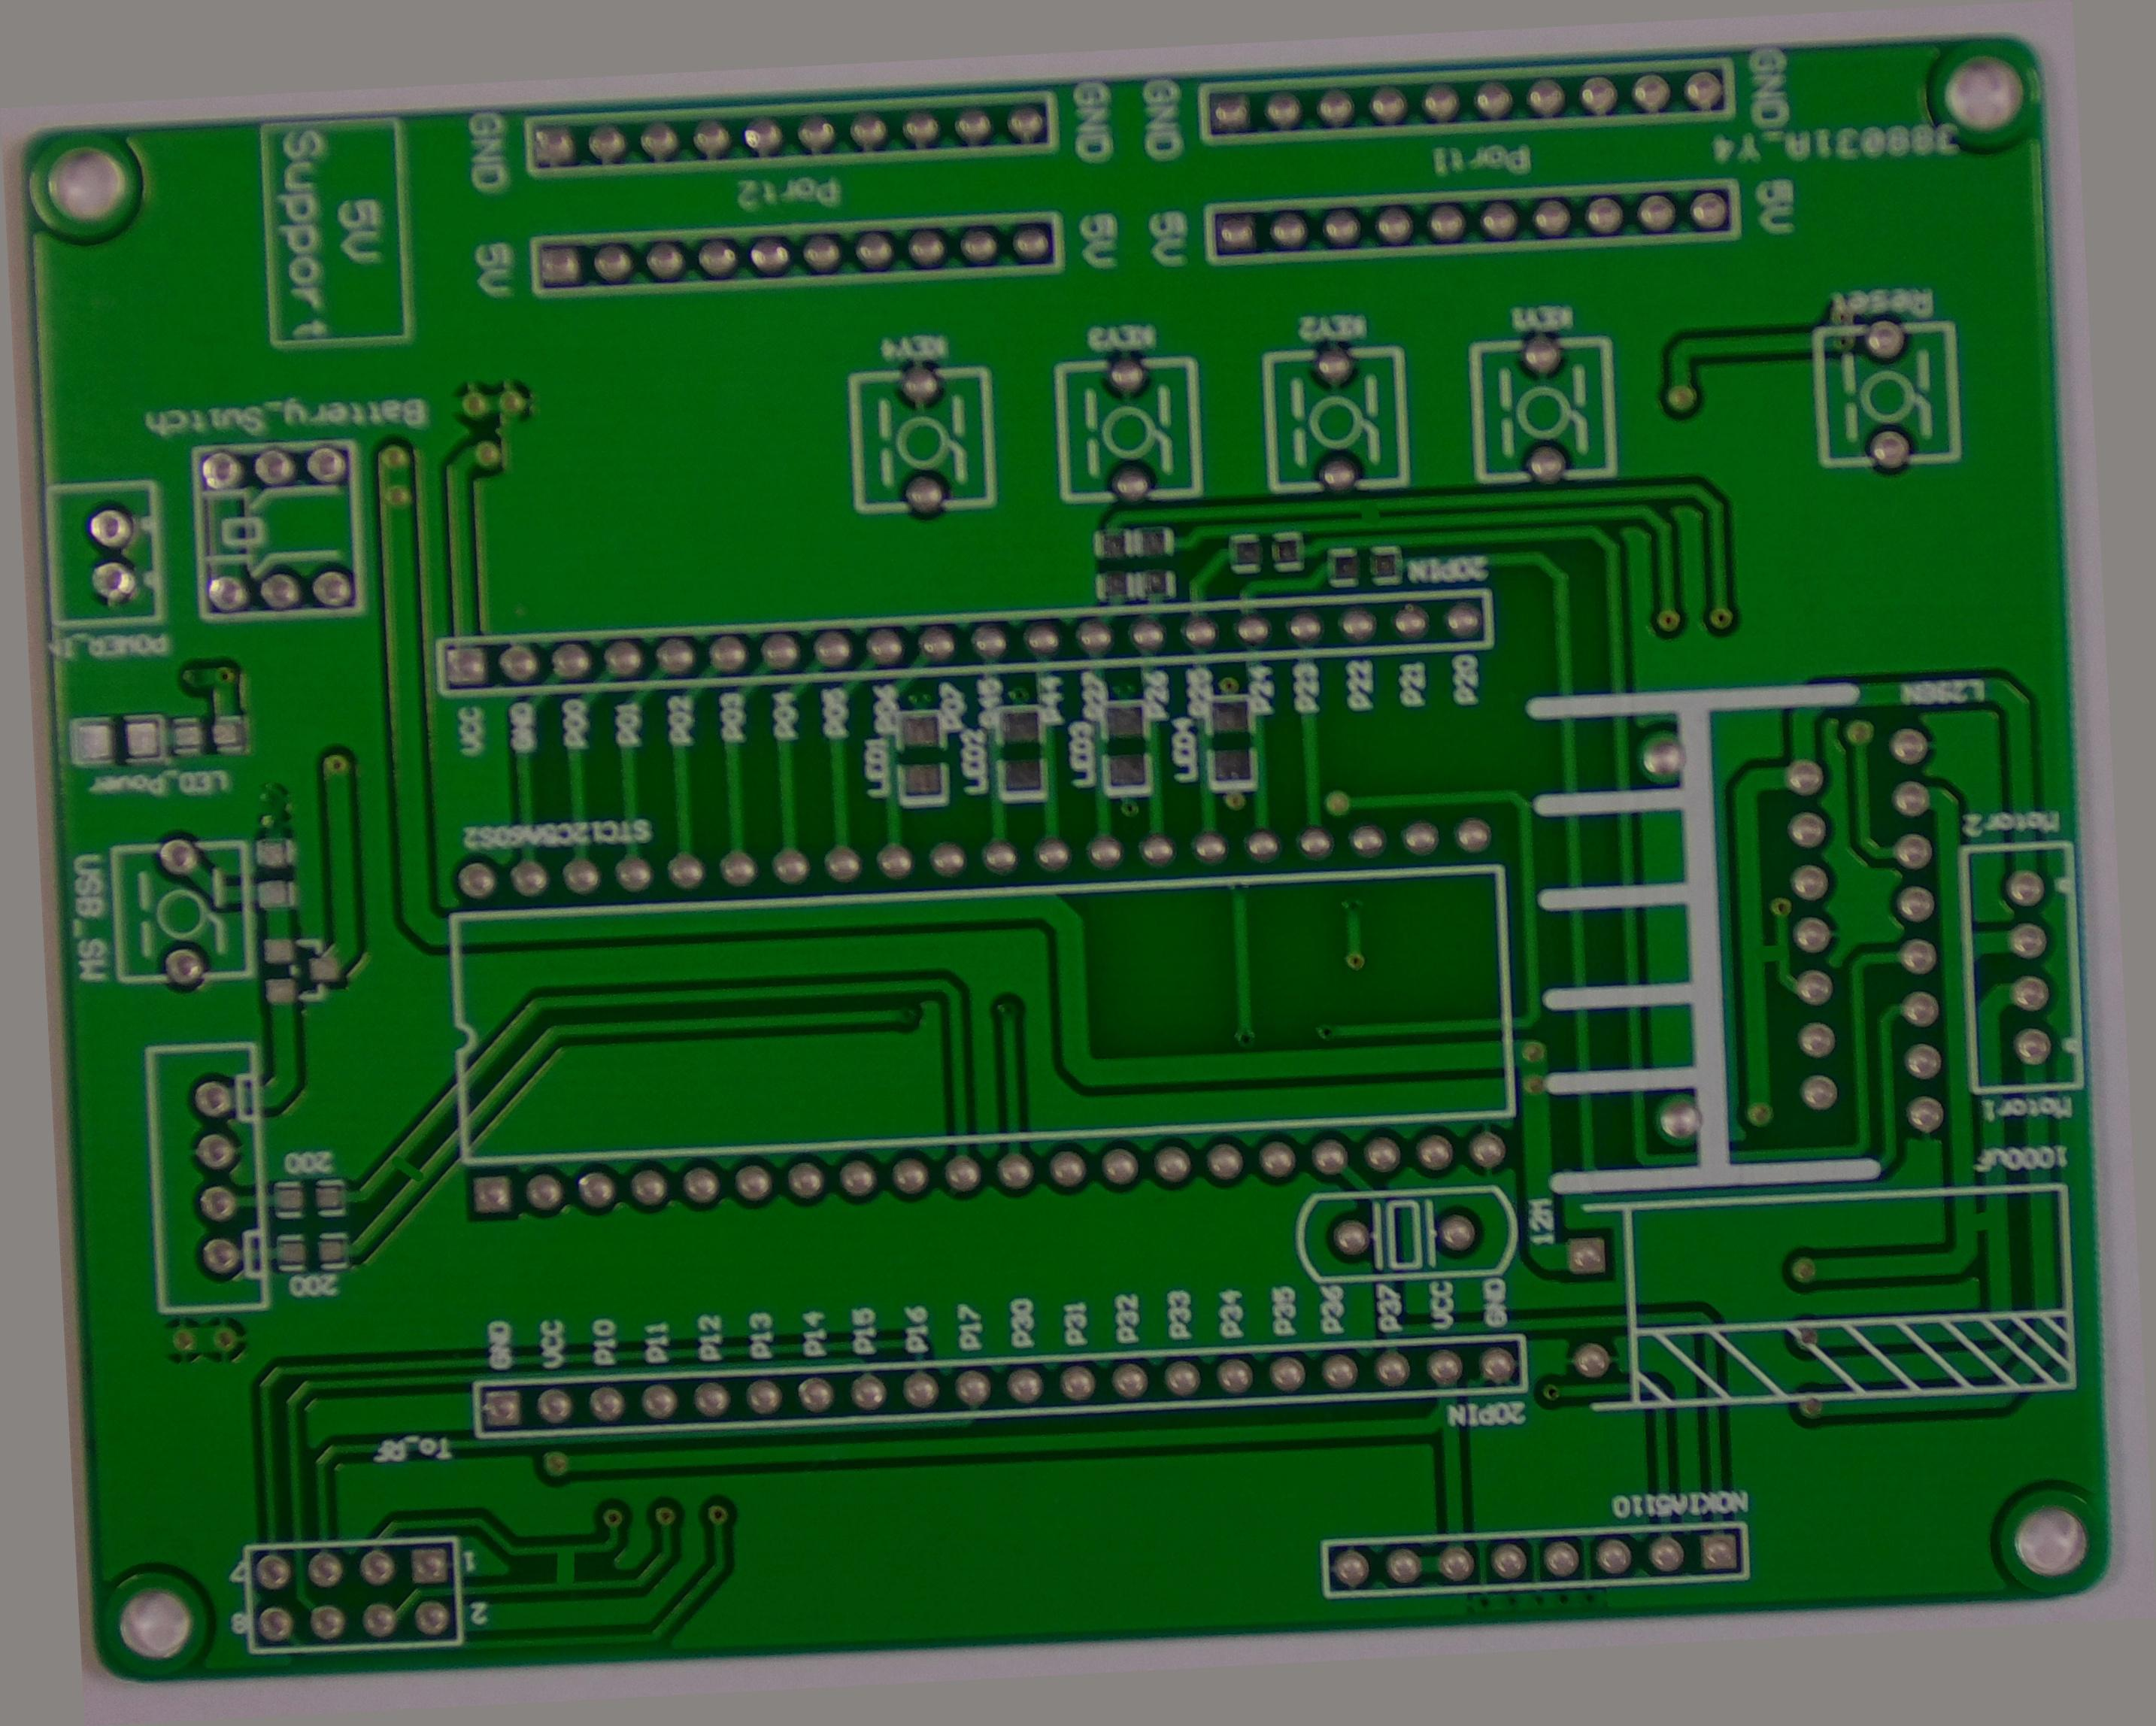short: (530, 1532, 601, 1599), (372, 1143, 440, 1199), (1332, 486, 1400, 539), (1952, 1187, 2010, 1249), (1737, 928, 1797, 986)
